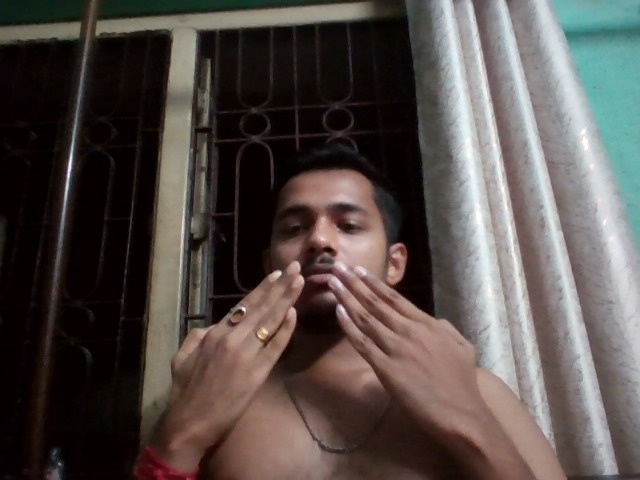Thankyou: (157, 260, 488, 433)
